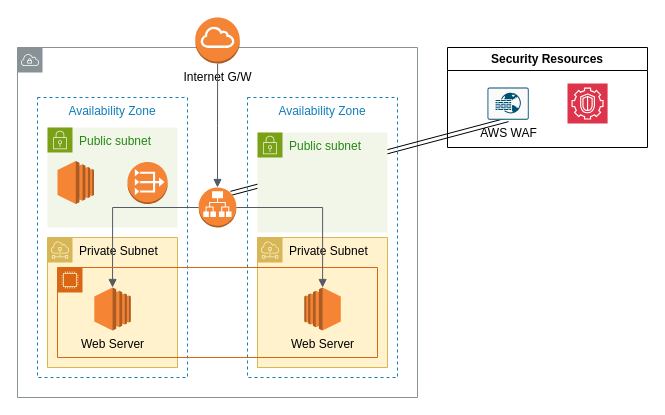
This 665x415 diagram has some shape labels left out. Each missing label, with the box of its shape:
ALB: (198, 186, 236, 228)
Bastion Host: (56, 160, 94, 204)
EC2 Auto Scaling: (56, 266, 378, 358)
GuardDuty: (566, 82, 608, 124)
NAT Gateway: (126, 161, 168, 204)
VPC: (16, 46, 418, 398)
